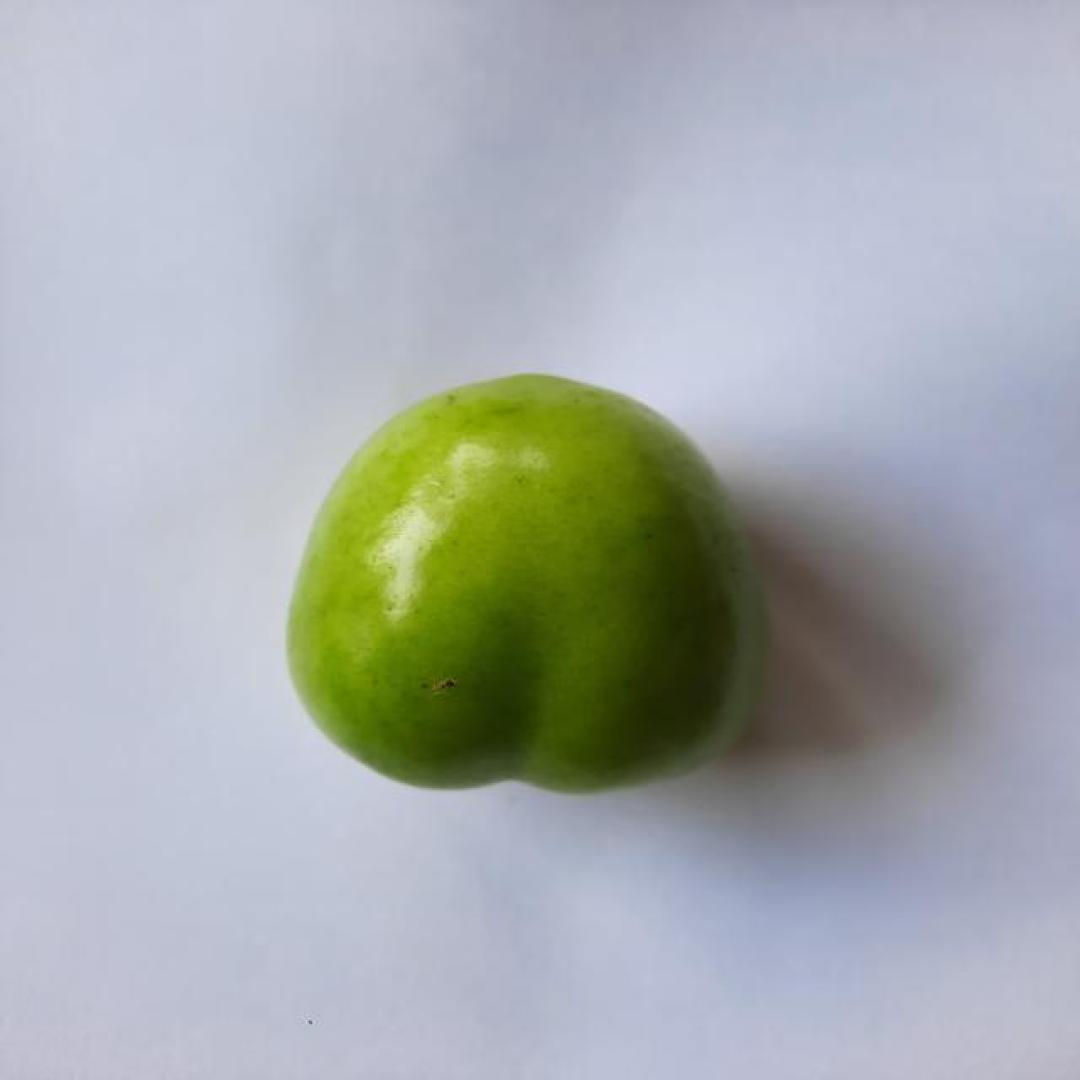mentah: (287, 373, 764, 796)
